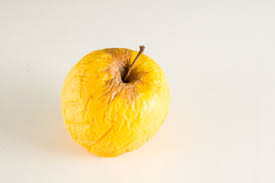damaged_apple: (60, 49, 171, 162)
